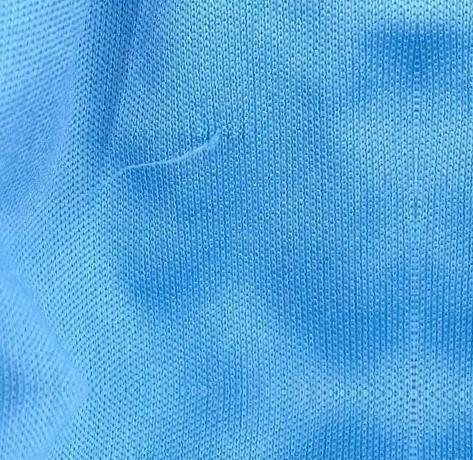snag: (96, 120, 236, 202)
